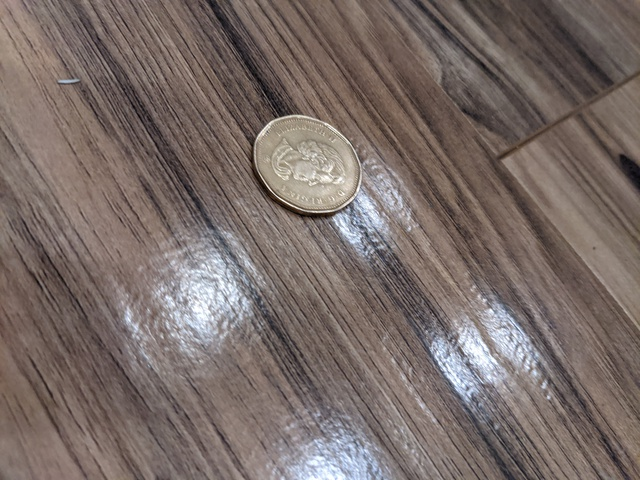loonie: (246, 95, 374, 225)
